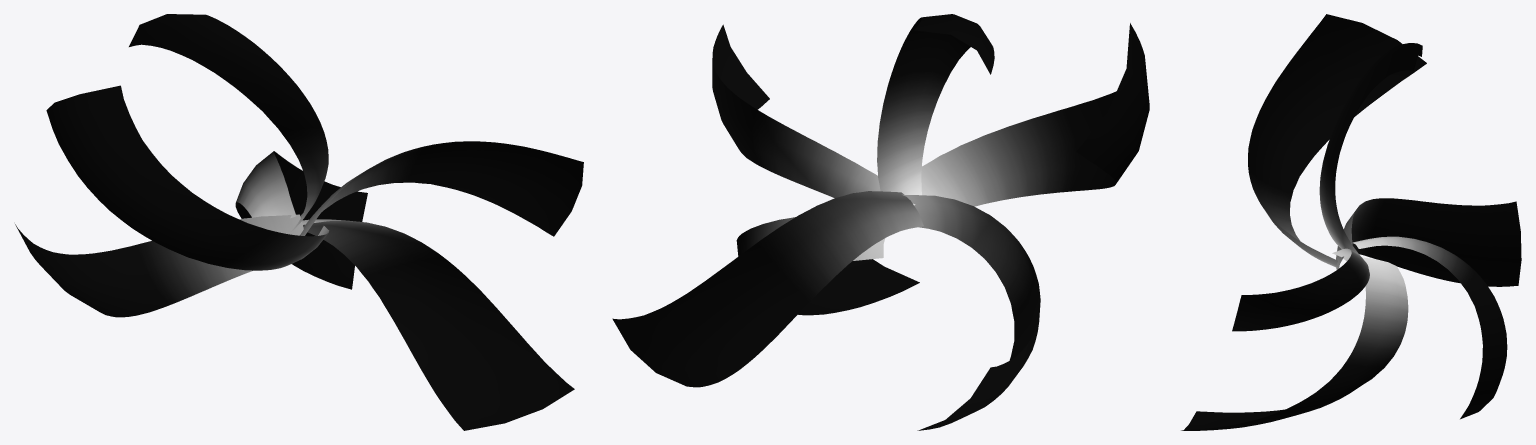
The model's file is Trajectories001.fbx.
The picture shows the model from 3 angles, left to right: view 1: azimuth 30°, elevation 25°; view 2: azimuth 150°, elevation 25°; view 3: azimuth 270°, elevation 25°; orthographic projection. The views are drawn at different scales.
Parts seen in each view (by area): view 1: HElix_Meshes002; view 2: HElix_Meshes002; view 3: HElix_Meshes002.
Boxes of the visible parts, box(x1,y1,x2,y2) form: HElix_Meshes002: box(15, 14, 583, 430); HElix_Meshes002: box(612, 14, 1149, 430); HElix_Meshes002: box(1181, 14, 1521, 430).
Size of the model in its own units: 65.7 by 51.97 by 54.22.
Materials: 1 (1 with a texture image).
